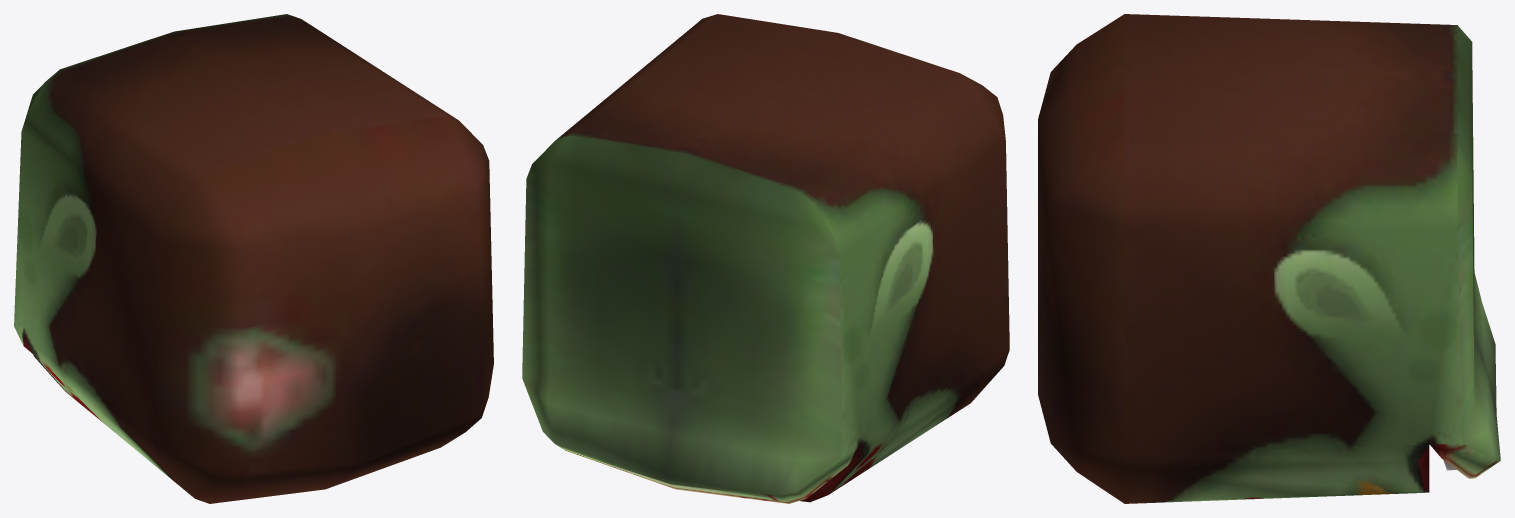
Rendered from Zombie_Little_Cook_Head_7cf28cc1__Zombie_Little_Cook_51f97baf_c1f257.obj.
The picture shows the model from 3 angles, left to right: view 1: azimuth 30°, elevation 25°; view 2: azimuth 150°, elevation 25°; view 3: azimuth 270°, elevation 25°; orthographic projection. The views are drawn at different scales.
Bounding box in the file's own units: 0.5599 × 0.563 × 0.6051.
1 material, 1 textured.
